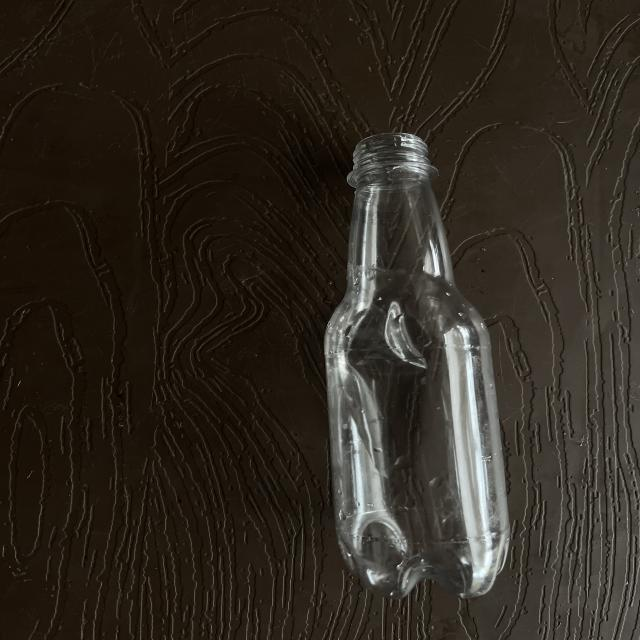PET_With_Liquid: (325, 134, 509, 598)
